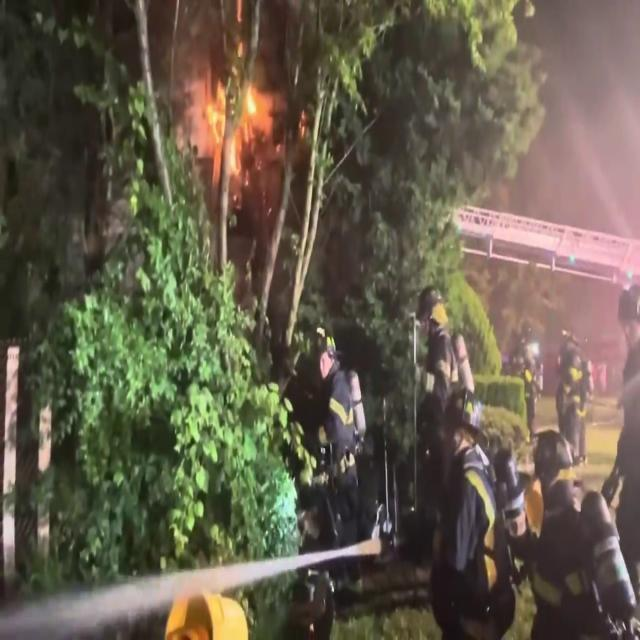Fire: (189, 14, 269, 178)
